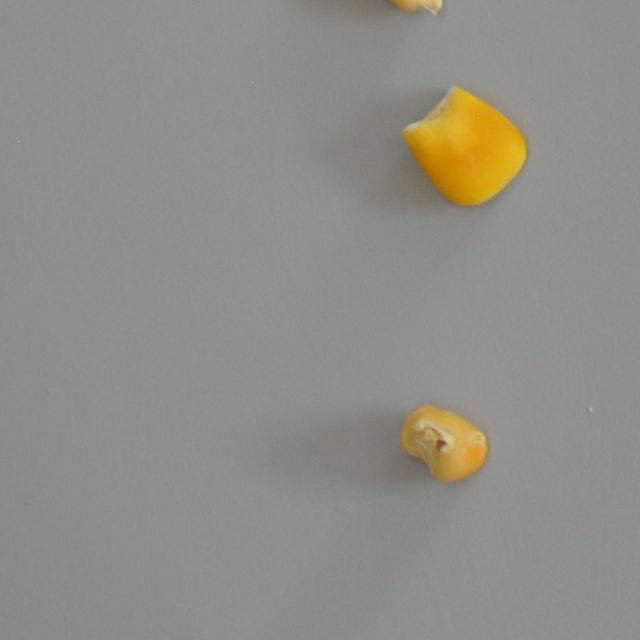dañado: (394, 400, 492, 486)
entero: (322, 0, 448, 19)
no_canjicado: (398, 84, 528, 206)
